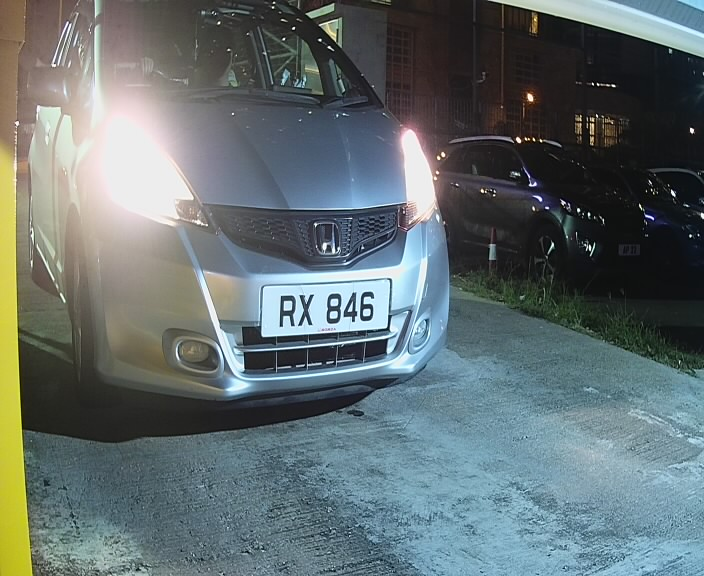Car: (14, 2, 459, 421)
License Plate: (251, 272, 400, 348)
